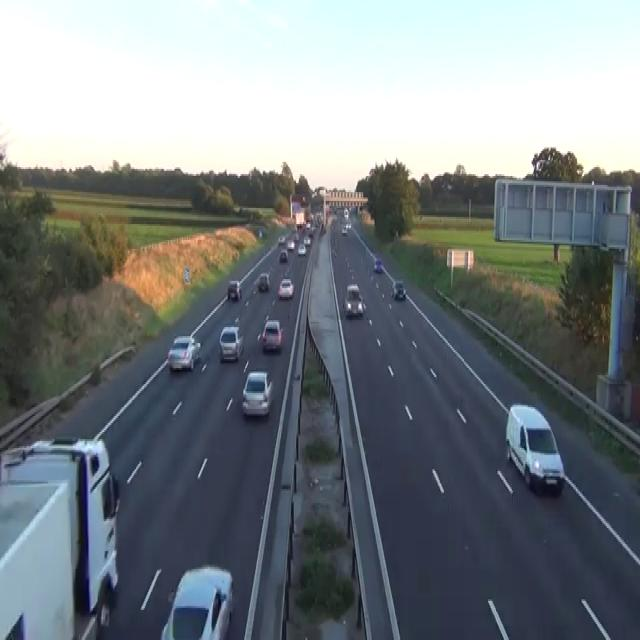Car: (160, 564, 234, 638), (505, 403, 564, 492), (241, 370, 273, 416), (167, 334, 201, 372), (218, 325, 243, 361), (342, 282, 366, 316), (261, 318, 283, 352), (278, 277, 294, 299), (391, 279, 406, 301), (227, 279, 241, 301), (257, 272, 270, 292), (346, 283, 359, 297), (373, 258, 382, 272), (297, 242, 306, 256), (279, 249, 288, 261), (286, 240, 295, 249), (277, 235, 285, 245), (331, 215, 337, 228), (303, 235, 310, 245), (341, 224, 347, 235), (320, 222, 326, 233), (309, 224, 315, 235), (343, 206, 348, 219), (292, 231, 299, 240), (305, 221, 311, 231), (346, 220, 351, 230), (296, 222, 302, 230), (332, 249, 337, 258), (301, 196, 306, 204), (258, 228, 262, 236)
Truck: (0, 436, 120, 638), (295, 210, 305, 229)
